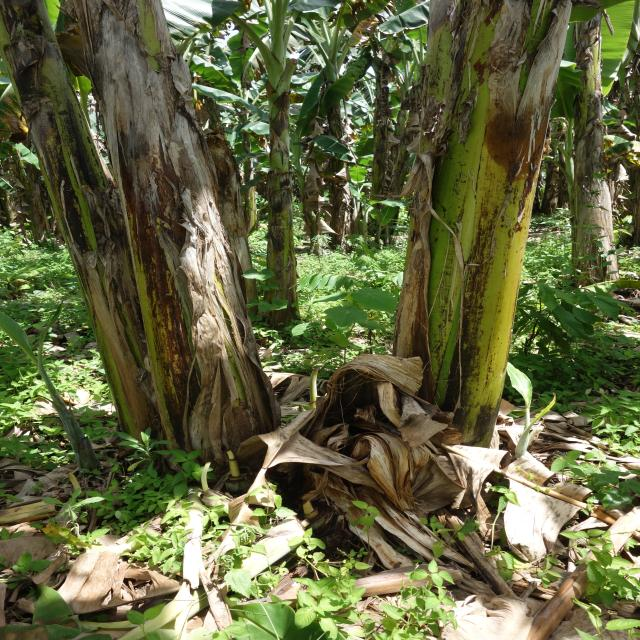Banana-plant: (69, 0, 280, 490), (382, 0, 568, 463), (3, 1, 162, 468), (256, 18, 303, 330)
